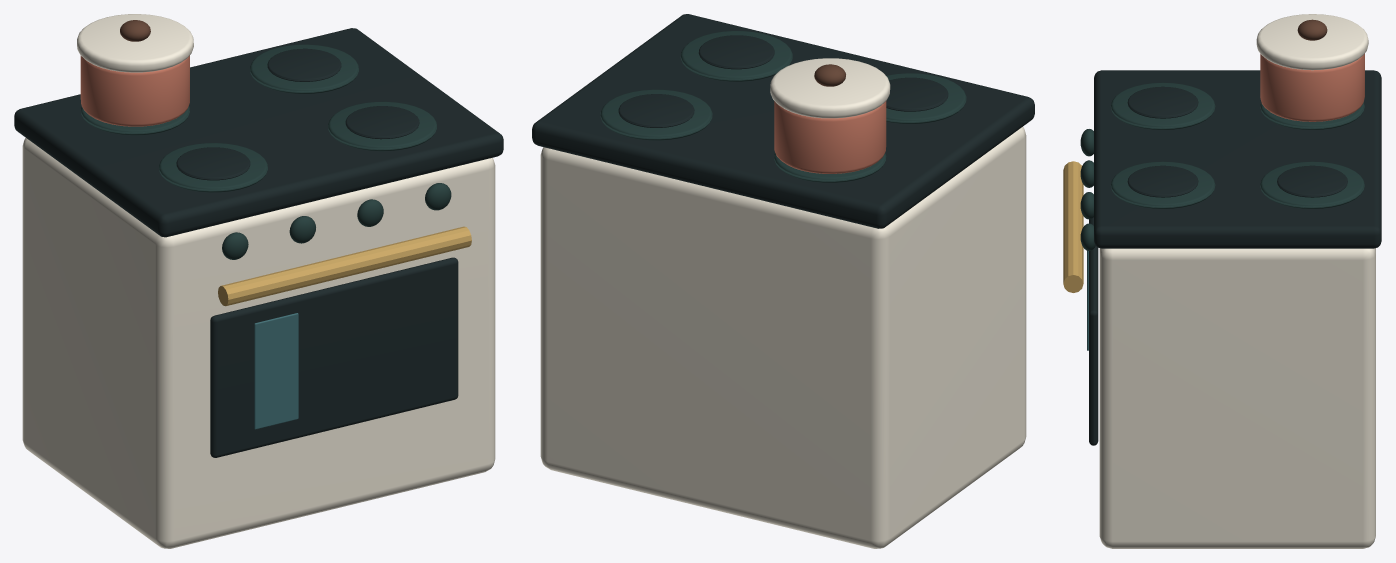
Rendered from stove.glb.
3 views of the same model, side by side, from view 1: azimuth 30°, elevation 25°; view 2: azimuth 150°, elevation 25°; view 3: azimuth 270°, elevation 25° (orthographic). The views are drawn at different scales.
Visible parts, largest first — view 1: Oven, Cooktop, Oven window, Sauce pot, Oven handle, Lid, Glass reflection, Burner.001, Burner.003, Burner.002, Burner ring.001, Burner ring.002 (+6 smaller); view 2: Oven, Cooktop, Sauce pot, Lid, Burner.002, Burner.003, Burner ring.003, Burner ring.002, Burner ring.001, Burner.001, Burner; view 3: Oven, Cooktop, Sauce pot, Lid, Oven handle, Burner.002, Burner.003, Burner.001, Oven window, Burner ring.002, Burner ring.001, Burner ring.003 (+2 smaller).
Boxes of the visible parts, left/top/right/bottom form: Oven: left=22, top=138, right=495, bottom=548; Cooktop: left=14, top=28, right=503, bottom=237; Oven window: left=210, top=257, right=458, bottom=457; Sauce pot: left=80, top=55, right=189, bottom=126; Oven handle: left=218, top=226, right=471, bottom=306; Lid: left=77, top=14, right=193, bottom=72; Glass reflection: left=254, top=313, right=298, bottom=429; Burner.001: left=159, top=143, right=267, bottom=192; Burner.003: left=328, top=101, right=436, bottom=151; Burner.002: left=250, top=44, right=358, bottom=93; Burner ring.001: left=176, top=147, right=250, bottom=180; Burner ring.002: left=267, top=48, right=341, bottom=81; Oven: left=540, top=127, right=1026, bottom=548; Cooktop: left=532, top=14, right=1034, bottom=228; Sauce pot: left=774, top=101, right=886, bottom=173; Lid: left=770, top=58, right=890, bottom=118; Burner.002: left=600, top=89, right=712, bottom=140; Burner.003: left=680, top=31, right=792, bottom=81; Burner ring.003: left=698, top=35, right=774, bottom=69; Burner ring.002: left=618, top=94, right=694, bottom=127; Burner ring.001: left=886, top=77, right=948, bottom=111; Burner.001: left=886, top=73, right=966, bottom=123; Burner: left=774, top=153, right=886, bottom=182; Oven: left=1099, top=248, right=1375, bottom=548; Cooktop: left=1094, top=70, right=1381, bottom=248; Sauce pot: left=1260, top=53, right=1364, bottom=121; Lid: left=1256, top=14, right=1368, bottom=70; Oven handle: left=1063, top=161, right=1083, bottom=292; Burner.002: left=1260, top=161, right=1364, bottom=208; Burner.003: left=1111, top=161, right=1215, bottom=208; Burner.001: left=1111, top=82, right=1215, bottom=129; Oven window: left=1089, top=217, right=1098, bottom=445; Burner ring.002: left=1277, top=165, right=1347, bottom=197; Burner ring.001: left=1127, top=86, right=1198, bottom=118; Burner ring.003: left=1127, top=165, right=1198, bottom=197.
Bounding box in the file's own units: 1.02 × 1.22 × 0.852.
